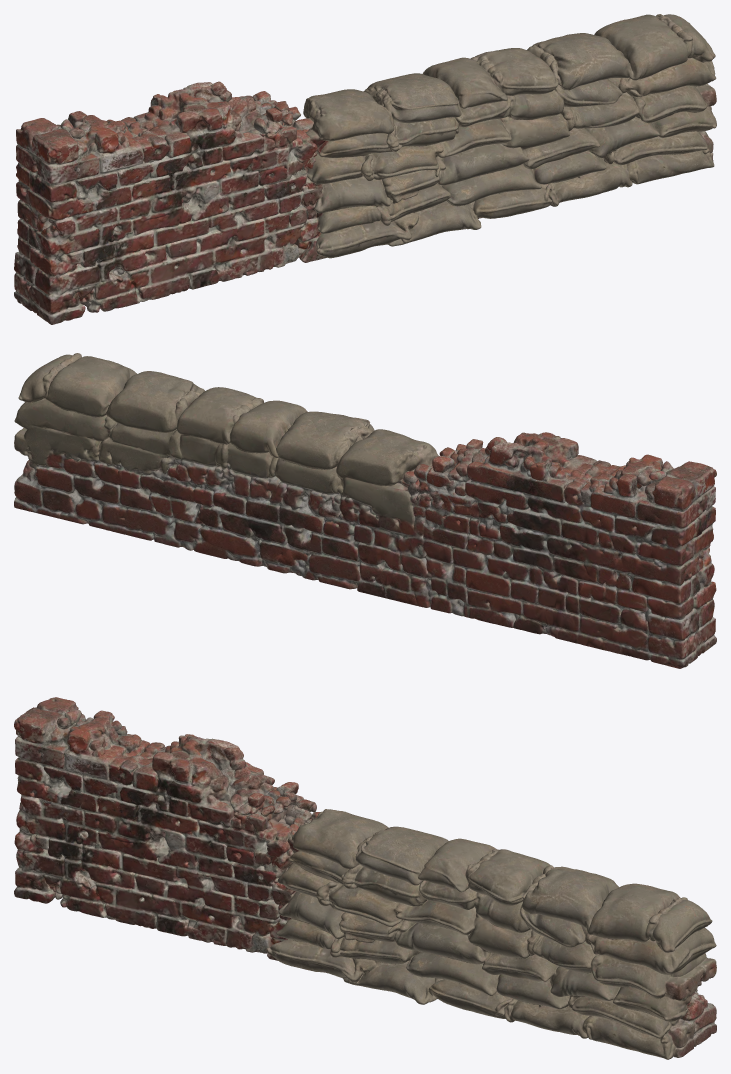
Rendered from brick_and_sandbag.glb.
3 renders of one model, top to bottom at view 1: azimuth 30°, elevation 25°; view 2: azimuth 150°, elevation 25°; view 3: azimuth 330°, elevation 25°, orthographic.
Bounding box in the file's own units: 1.9 × 0.4876 × 0.2415.
1 material, 1 textured.
